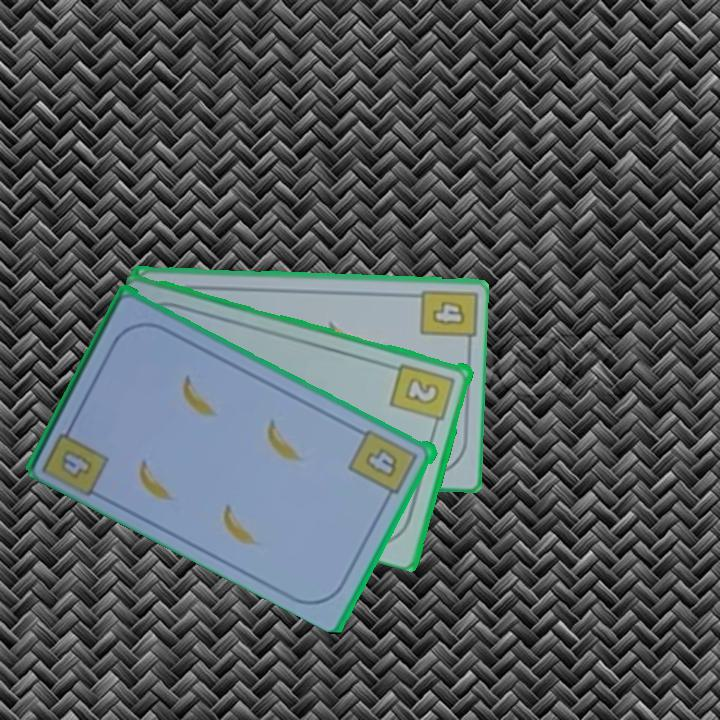2b: (387, 359, 458, 432)
4b: (39, 415, 114, 497), (346, 425, 422, 504), (429, 297, 468, 328)
